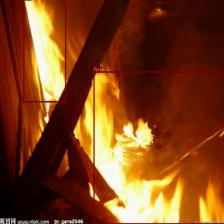fire: (93, 70, 223, 224), (23, 0, 66, 102)
